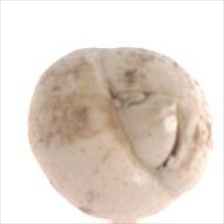L3: (104, 81, 184, 178)
L4: (27, 46, 214, 221)
